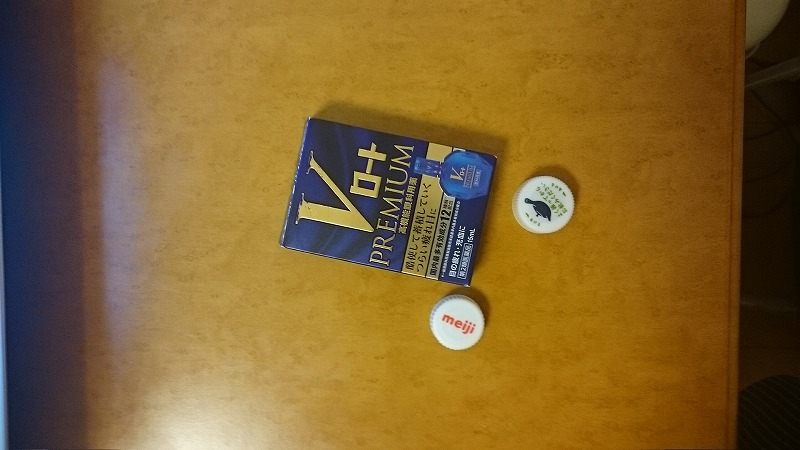A: (508, 173, 582, 236)
B: (431, 293, 492, 356)
D: (278, 113, 499, 289)
